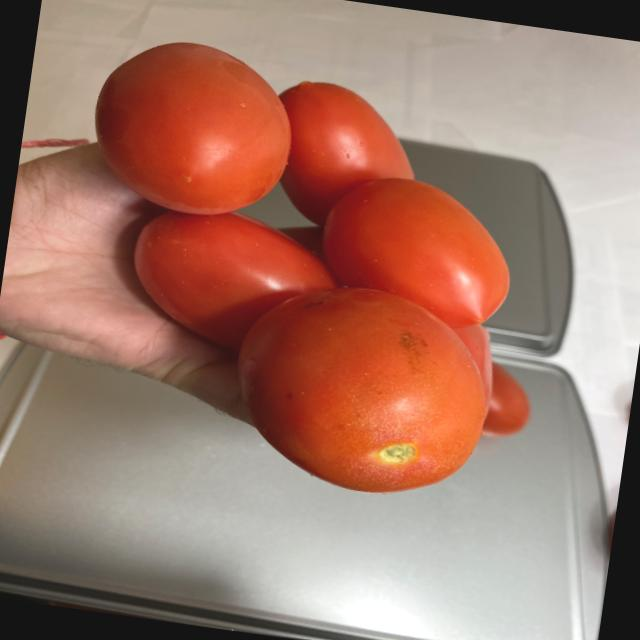tomato: (44, 29, 574, 510)
